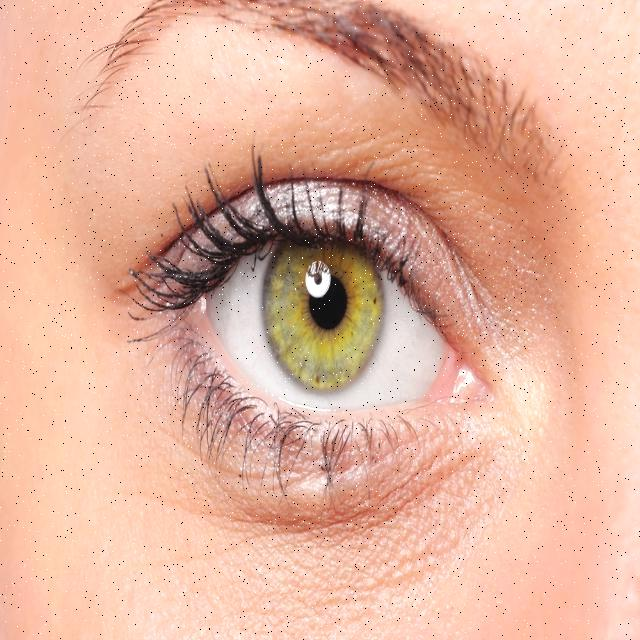Normal: (73, 109, 585, 511)
